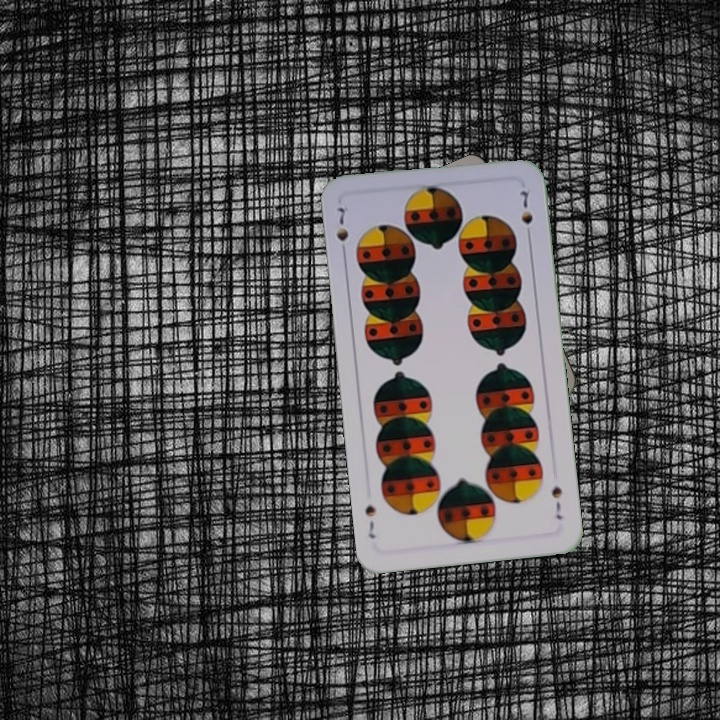S7: (332, 202, 351, 259), (547, 482, 565, 522)
